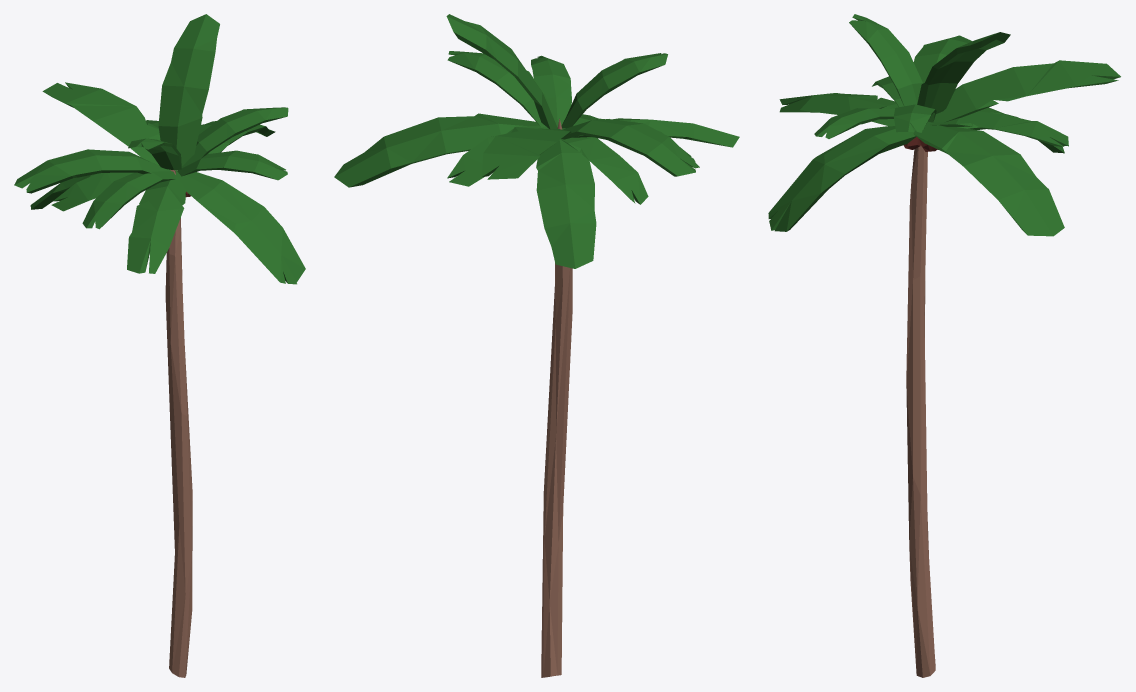
Rendered from Palm D.fbx.
3 renders of one model, left to right at view 1: azimuth 30°, elevation 25°; view 2: azimuth 150°, elevation 25°; view 3: azimuth 270°, elevation 25°, orthographic. The views are drawn at different scales.
Parts seen in each view (by area): view 1: Palm D; view 2: Palm D; view 3: Palm D.
Part boxes in pixels (x1=…): Palm D: x1=14, y1=14, x2=305, y2=677; Palm D: x1=334, y1=14, x2=739, y2=677; Palm D: x1=768, y1=14, x2=1120, y2=677.
Size of the model in its own units: 603 by 1222 by 579.
